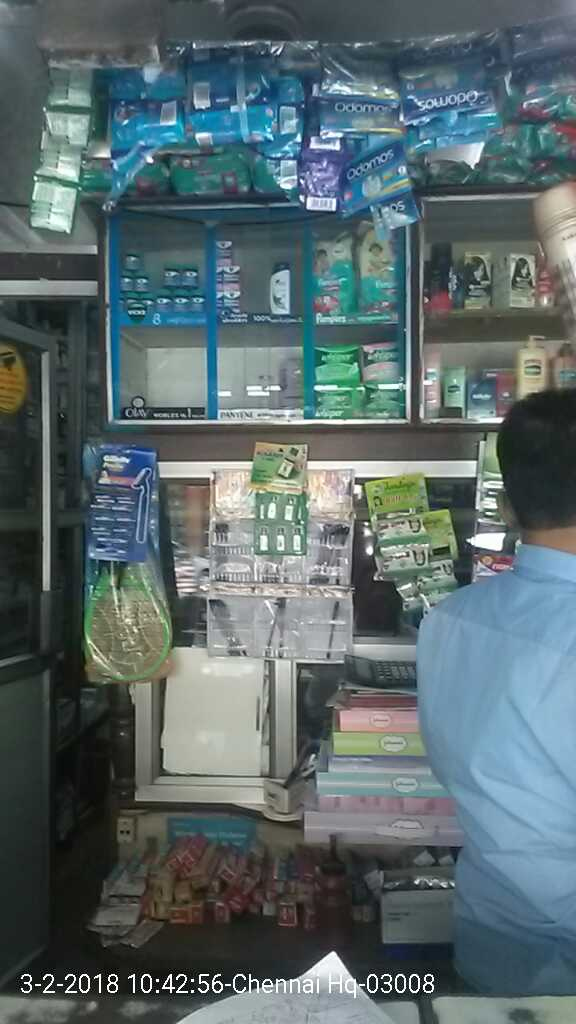vicks: (118, 238, 252, 325)
